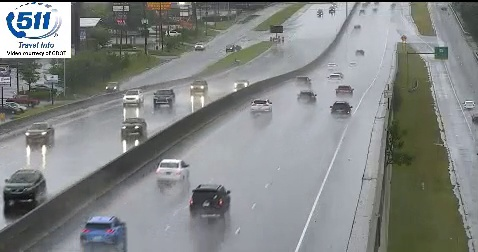car: (80, 216, 128, 245), (189, 184, 229, 215), (156, 159, 188, 182), (330, 101, 351, 118), (250, 99, 272, 114), (297, 91, 315, 104), (335, 85, 353, 97)
